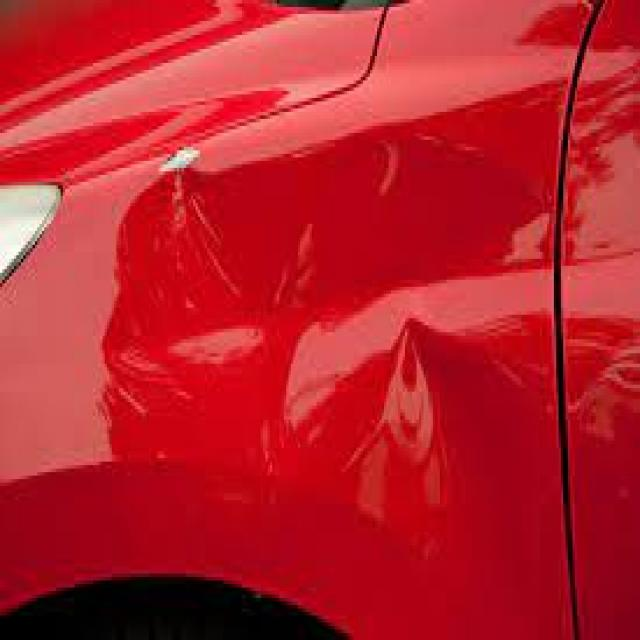minor: (98, 112, 586, 576)
